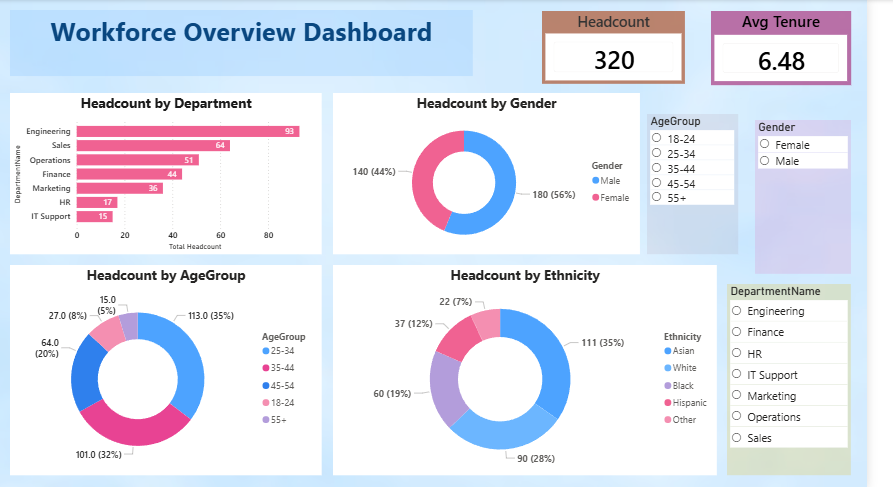

The page's visual inventory and layout, read from the dashboard file:
{"tool":"powerbi","page":{"name":"WORK FORCE OVER VIEW ","canvas":[1280,720],"ordinal":0},"visuals":[{"type":"clusteredBarChart","title":"Headcount by Department","fields":{"Category":["dDepartment (1).DepartmentName"],"Y":["Table.Total Headcount"]},"box":[22,138.1,458.4,236.6],"z":2000},{"type":"donutChart","title":"Headcount by AgeGroup","fields":{"Category":["dDemographics (1).AgeGroup"],"Y":["Table.Total Headcount"]},"box":[22,390.9,458.4,308.6],"z":3000},{"type":"donutChart","title":"Headcount by Gender","fields":{"Category":["dDemographics (1).Gender"],"Y":["Table.Total Headcount"]},"box":[496.7,138.1,451.1,236.6],"z":4000},{"type":"donutChart","title":"Headcount by Ethnicity","fields":{"Category":["dDemographics (1).Ethnicity"],"Y":["Table.Total Headcount"]},"box":[496.7,390.9,564.2,308.6],"z":5000},{"type":"listSlicer","fields":{"Values":["dDemographics (1).Gender"]},"box":[1116.7,177.8,141.1,226.3],"z":6000},{"type":"listSlicer","fields":{"Values":["dDemographics (1).AgeGroup"]},"box":[958,169,133.7,205.7],"z":7000},{"type":"listSlicer","fields":{"Values":["dDepartment (1).DepartmentName"]},"box":[1075.6,418.8,182.2,280.7],"z":8000},{"type":"textbox","box":[22,16.2,680.3,97],"z":9000},{"type":"cardVisual","title":"Headcount","fields":{"Data":["Table.Total Headcount"]},"box":[803.8,17.6,210.1,107.3],"z":9001},{"type":"cardVisual","title":"Avg Tenure","fields":{"Data":["Table.Average Tenure"]},"box":[1052.1,17.6,205.7,108.7],"z":9002}]}

Visuals, with their boxes on the page's 1280x720 design canvas (x1, y1, x2, y2). These are canvas units, not pixel positions in the 893x487 screenshot, which may show the page scaled, cropped or inside an application window:
"Headcount by Department" clusteredBarChart: 22, 138, 480, 375
"Headcount by AgeGroup" donutChart: 22, 391, 480, 700
"Headcount by Gender" donutChart: 497, 138, 948, 375
"Headcount by Ethnicity" donutChart: 497, 391, 1061, 700
listSlicer - dDemographics (1).Gender: 1117, 178, 1258, 404
listSlicer - dDemographics (1).AgeGroup: 958, 169, 1092, 375
listSlicer - dDepartment (1).DepartmentName: 1076, 419, 1258, 700
textbox: 22, 16, 702, 113
"Headcount" cardVisual: 804, 18, 1014, 125
"Avg Tenure" cardVisual: 1052, 18, 1258, 126
